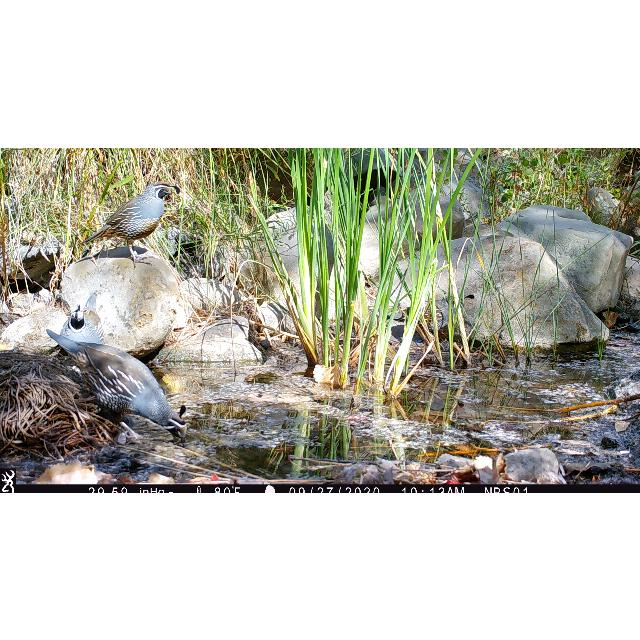animals: (44, 326, 188, 442), (81, 182, 181, 266), (61, 290, 106, 350)
